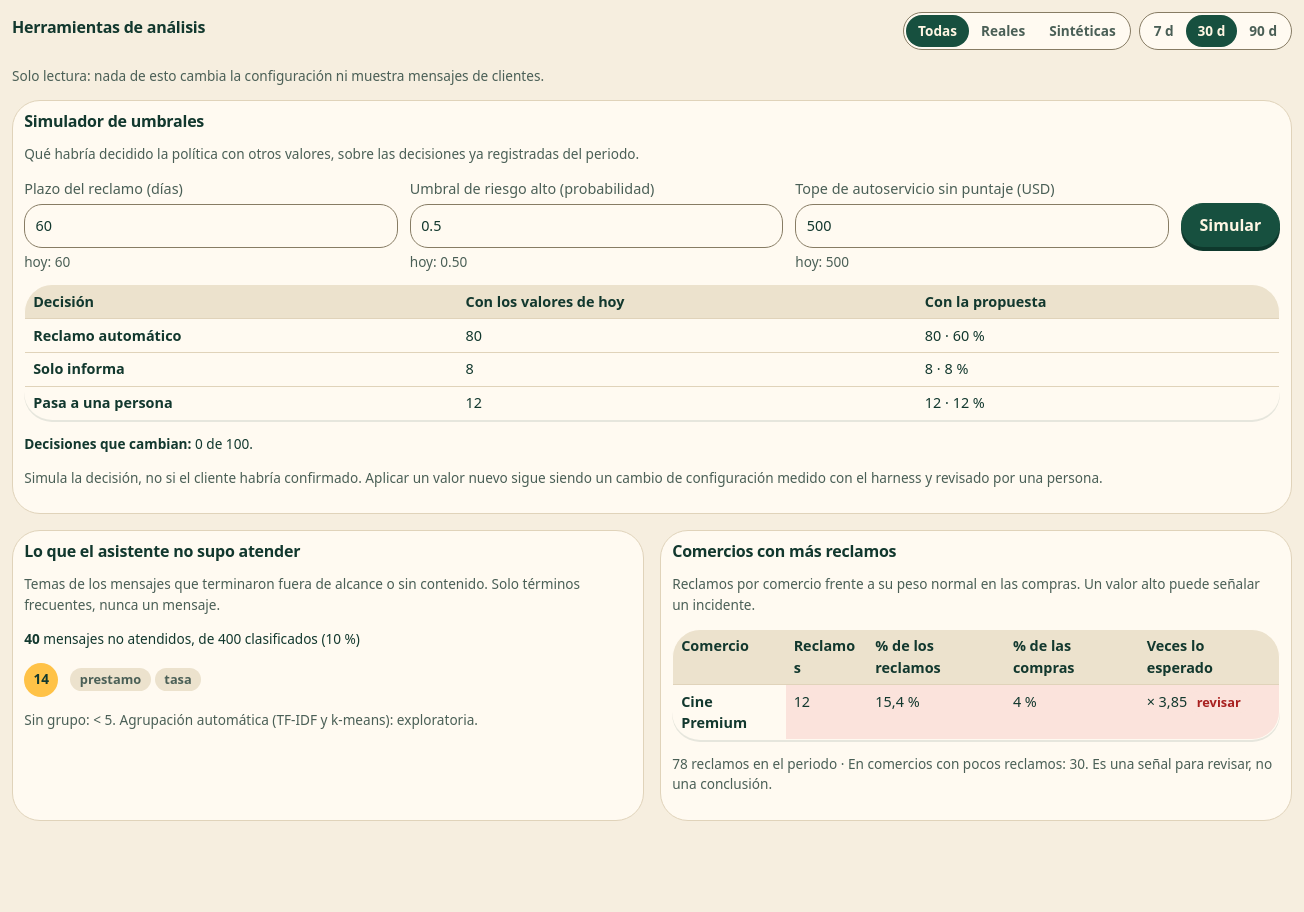
Test: AdminInsights › simulates thresholds, lists topics as terms only and flags merchants above their normal weight
Expected: the text "prestamo" is shown, x1=70 y1=668 x2=151 y2=691
Expected: the column heading "Cine Premium" is shown, x1=673 y1=684 x2=786 y2=740
Replace the text in the number field labelled "Plazo del reclamo (días) hoy: 60" with "30": (211, 226) x1=24 y1=204 x2=398 y2=248
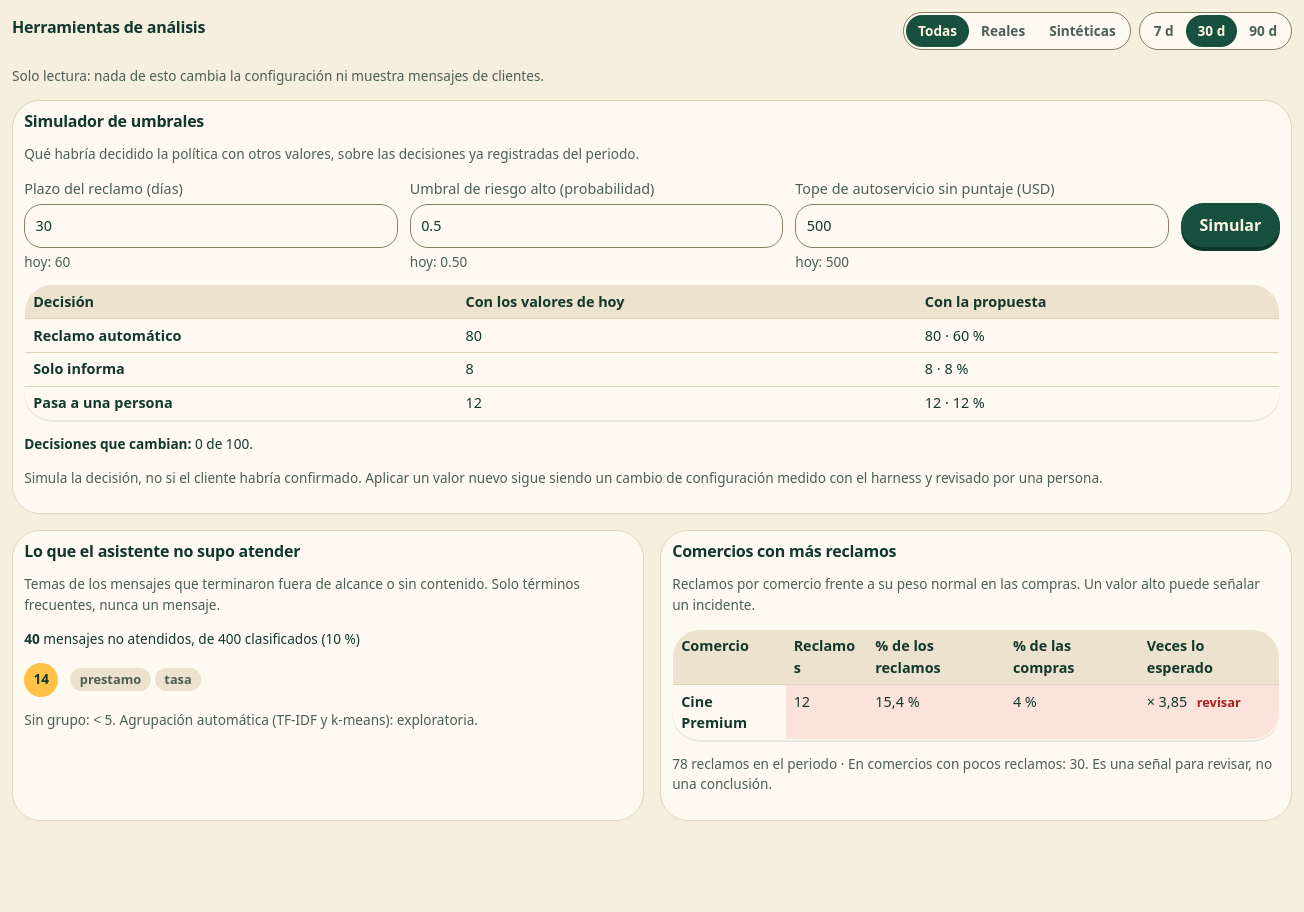
Click the button "Simular": (1230, 225) x1=1181 y1=203 x2=1280 y2=247
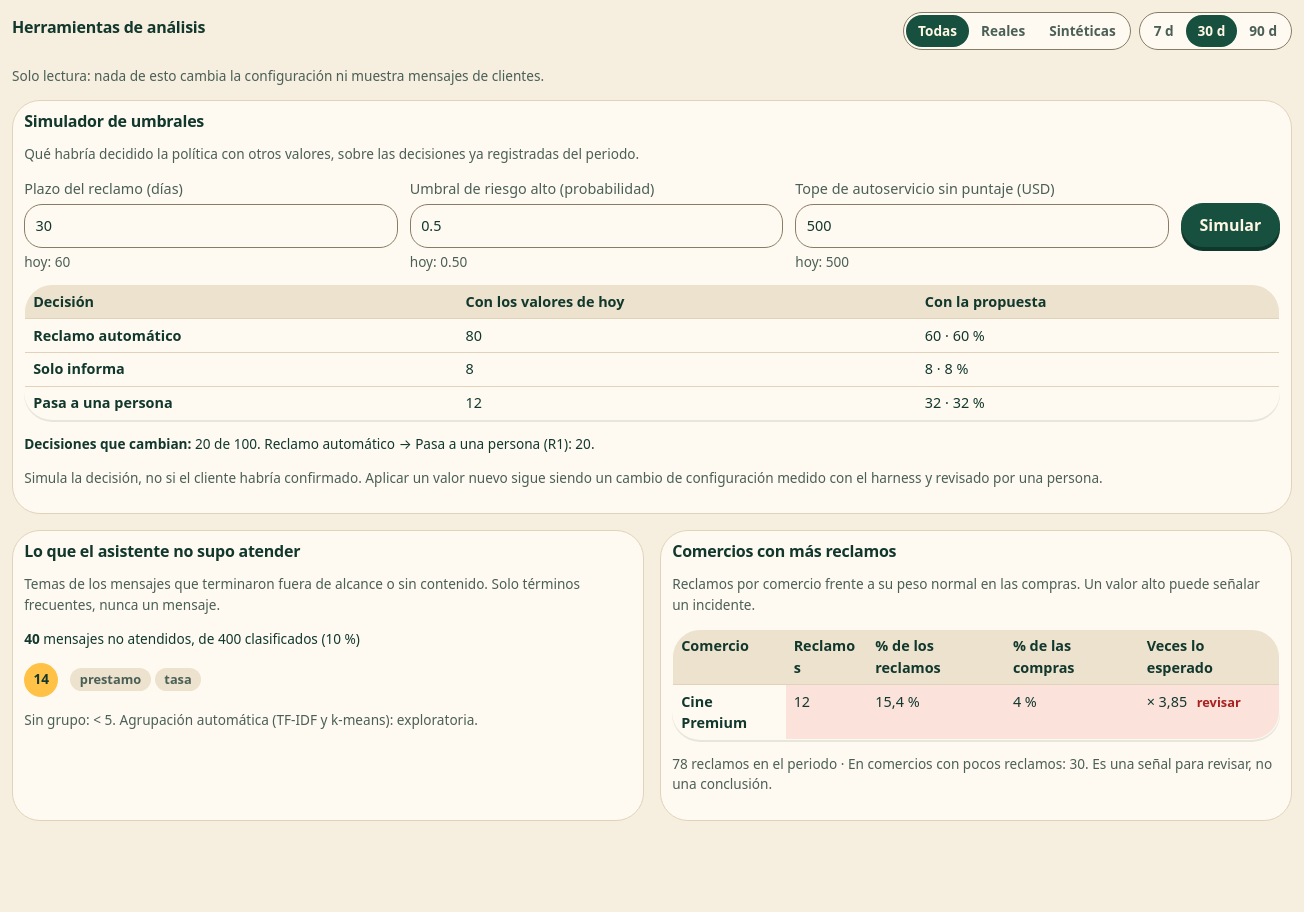
Result: the text "Reclamo automático → Pasa a una persona (R1): 20." is shown at x1=261 y1=434 x2=594 y2=453
